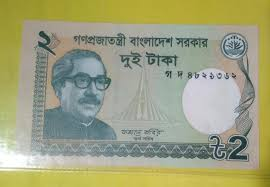2_taka: (34, 30, 252, 160)
